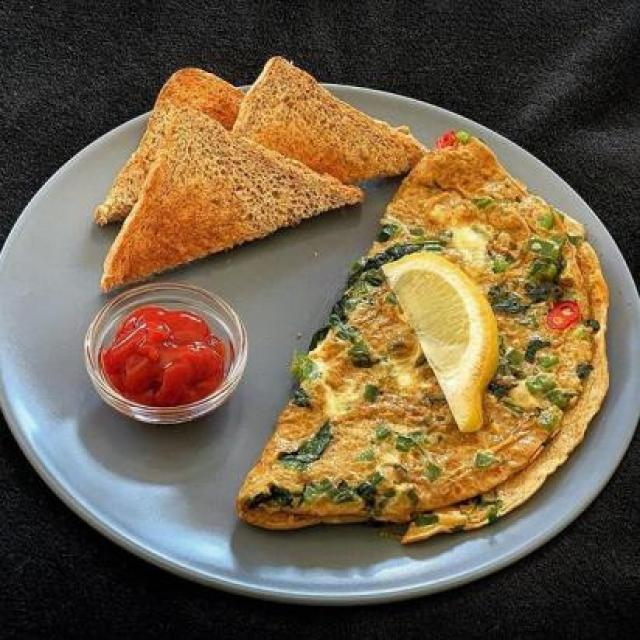alooparatha-chapati: (114, 82, 400, 246)
omelette: (277, 134, 604, 548)
